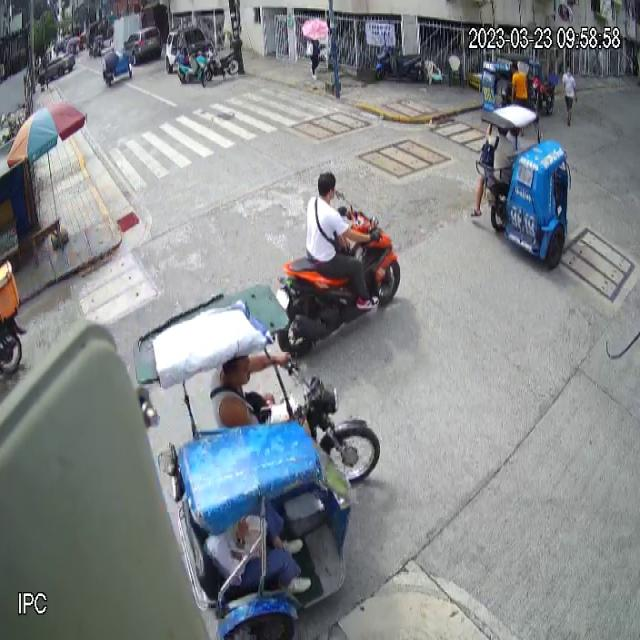Motorcycle: (260, 188, 405, 360)
Tricycle: (129, 285, 383, 640), (475, 103, 574, 271)
